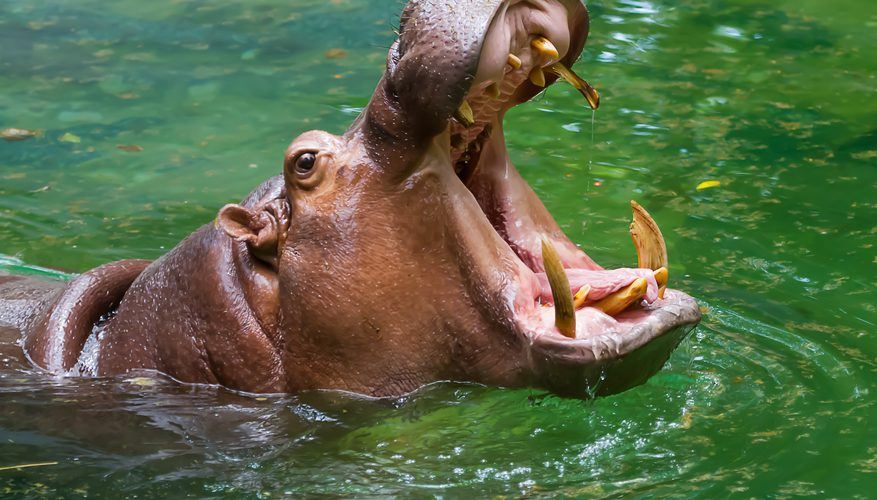Hippopotamus: (5, 1, 707, 403)
